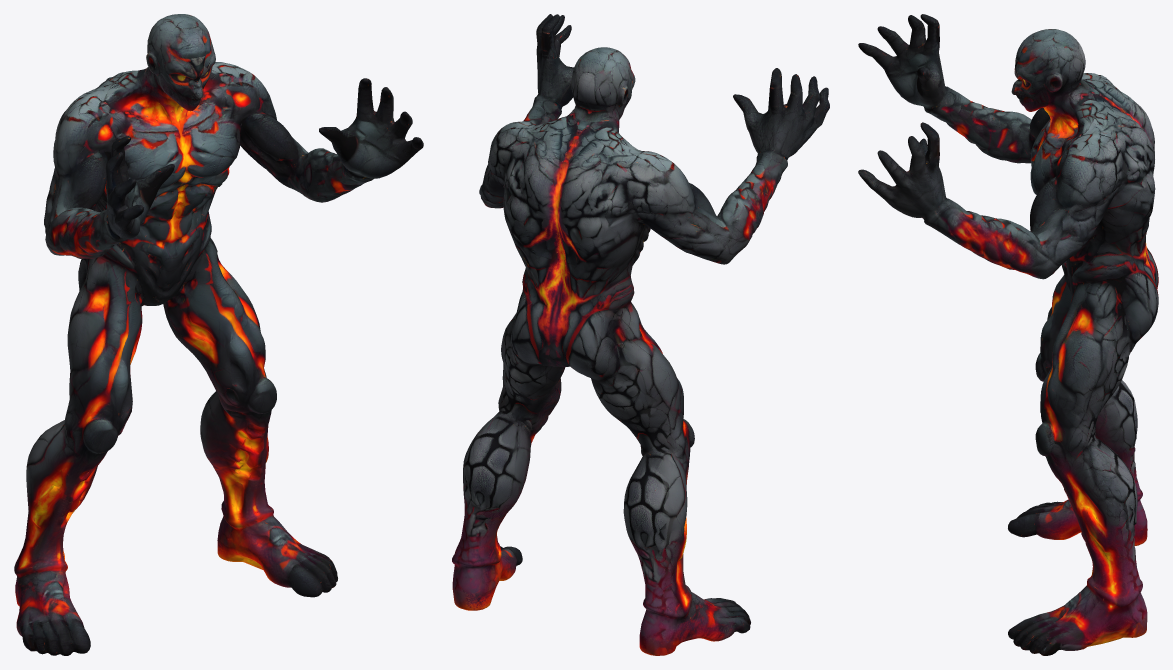
File: Meshy_AI_lava_golem_scary_0504063304_texture.fbx
3 views of the same model, side by side, from view 1: azimuth 30°, elevation 25°; view 2: azimuth 150°, elevation 25°; view 3: azimuth 270°, elevation 25° (orthographic). The views are drawn at different scales.
Parts seen in each view (by area): view 1: Mesh_0; view 2: Mesh_0; view 3: Mesh_0.
Boxes of the visible parts, x1,y1,x2,y2 form: Mesh_0: (14, 14, 423, 655); Mesh_0: (452, 14, 829, 655); Mesh_0: (858, 14, 1158, 655).
Size of the model in its own units: 104 by 191 by 93.64.
Materials: 1 (1 with a texture image).
